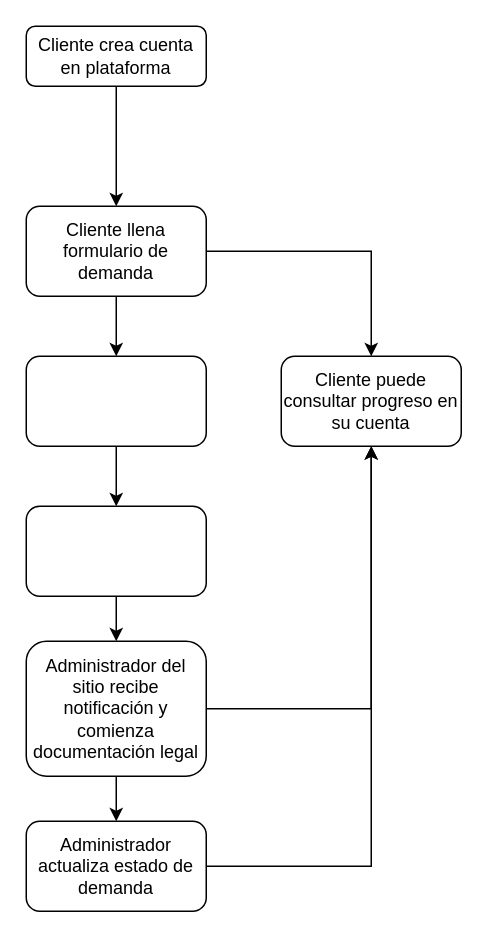
Some shapes in this 488 by 938 pixel diagram are drawn without their labels. The shapes that lost their labels are listed below. From the top down, each one's centre as x and y in pixels, then its label:
At pixel 115 400: "Cliente es enviado a flujo de pago".
At pixel 115 550: "Cliente realiza exitosamente el pago".
